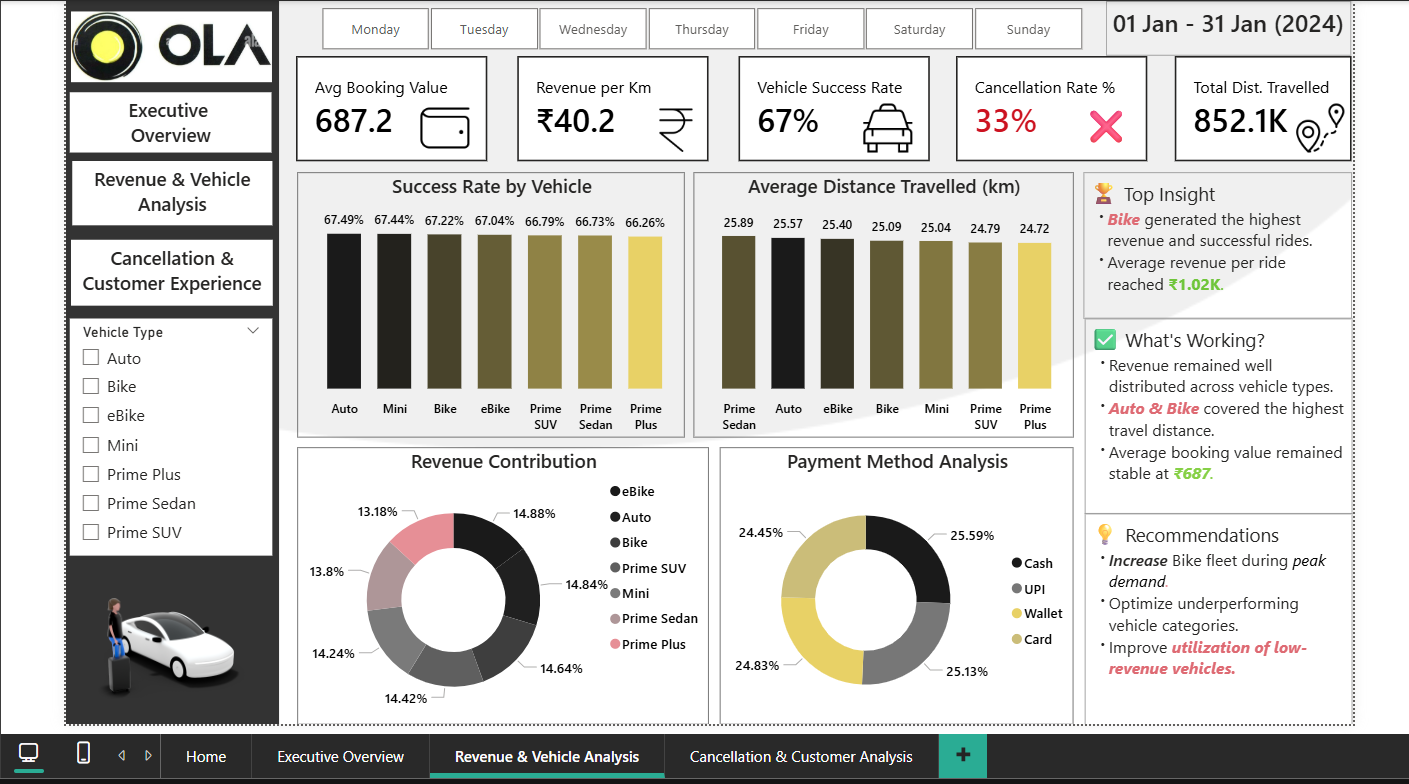

Layout of this report page (visuals, bound fields, positions):
{"tool":"powerbi","page":{"name":"Revenue & Vehicle Analysis","canvas":[1280,720],"ordinal":2},"visuals":[{"type":"textbox","box":[1035,0,243.8,54.7],"z":0},{"type":"shape","box":[0,0,212.3,720.4],"z":1000},{"type":"cardVisual","fields":{"Data":["Bangaluru_ola.Avg Booking Value"]},"box":[228.9,54.7,190.3,104.5],"z":2000},{"type":"cardVisual","fields":{"Data":["Bangaluru_ola.Total Distance Travelled"]},"box":[1104,54.7,176,104.5],"z":3000},{"type":"cardVisual","fields":{"Data":["Bangaluru_ola.Cancellation Rate %"]},"box":[886,54.7,190,104.5],"z":4000},{"type":"cardVisual","fields":{"Data":["Bangaluru_ola.Revenue(km)"]},"box":[448.8,54.7,190,104.5],"z":5000},{"type":"textbox","box":[3.4,90.3,201,59.8],"z":6000},{"type":"image","box":[5,0,200,90.8],"z":7000},{"type":"actionButton","box":[4.5,237.1,201,65.5],"z":8000},{"type":"textbox","box":[6.2,159.2,199,64],"z":9000},{"type":"actionButton","box":[2.3,90.3,202.1,59.8],"z":10000},{"type":"textbox","box":[4.5,237.1,201,65.5],"z":11000},{"type":"actionButton","box":[4.5,160.3,202.1,63.2],"z":12000},{"type":"slicer","fields":{"Values":["Bangaluru_ola.day_name"]},"box":[228.9,0,806.1,54.7],"z":13000},{"type":"slicer","fields":{"Values":["Bangaluru_ola.vehicle_type"]},"box":[3.7,316,201.5,236.4],"z":14000},{"type":"cardVisual","fields":{"Data":["Bangaluru_ola.Vehicle Success Rate %"]},"box":[669.3,54.7,190.3,104.5],"z":15000},{"type":"image","box":[788.7,102,58.5,48.5],"z":16000},{"type":"image","box":[347.1,102,59.7,48.5],"z":17000},{"type":"image","box":[1217.8,102,61,48.5],"z":18000},{"type":"clusteredColumnChart","title":"Average Distance Travelled (km)","fields":{"Category":["Bangaluru_ola.vehicle_type"],"Y":["Bangaluru_ola.Avg Ride Distance"]},"box":[624.5,170.4,378.2,263.7],"z":19000},{"type":"image","box":[0,552.3,212.7,167.9],"z":20000},{"type":"clusteredColumnChart","title":"Success Rate by Vehicle","fields":{"Category":["Bangaluru_ola.vehicle_type"],"Y":["Bangaluru_ola.Vehicle Success Rate %"]},"box":[230.1,170.4,385.6,263.7],"z":21000},{"type":"textbox","box":[1002.6,97,64.7,59.7],"z":22000},{"type":"image","box":[583.4,107,47.3,43.5],"z":23000},{"type":"donutChart","title":"Revenue Contribution","fields":{"Category":["Bangaluru_ola.vehicle_type"],"Y":["Bangaluru_ola.Revenue"]},"box":[230.1,444.1,409.3,276.2],"z":24000},{"type":"donutChart","title":"Payment Method  Analysis","fields":{"Category":["Bangaluru_ola.payment_method"],"Y":["Bangaluru_ola.Revenue"]},"box":[650.6,444.1,352,276.2],"z":25000},{"type":"textbox","box":[1012.6,170.4,267.5,145.5],"z":26000},{"type":"textbox","box":[1013.8,316,266.2,194.1],"z":27000},{"type":"textbox","box":[1013.8,510,266.2,210.2],"z":28000}]}

Visuals, with their boxes on the page's 1280x720 design canvas (x1, y1, x2, y2). These are canvas units, not pixel positions in the 1409x784 screenshot, which may show the page scaled, cropped or inside an application window:
textbox: left=1035, top=0, right=1279, bottom=55
shape: left=0, top=0, right=212, bottom=720
cardVisual - Bangaluru_ola.Avg Booking Value: left=229, top=55, right=419, bottom=159
cardVisual - Bangaluru_ola.Total Distance Travelled: left=1104, top=55, right=1280, bottom=159
cardVisual - Bangaluru_ola.Cancellation Rate %: left=886, top=55, right=1076, bottom=159
cardVisual - Bangaluru_ola.Revenue(km): left=449, top=55, right=639, bottom=159
textbox: left=3, top=90, right=204, bottom=150
image: left=5, top=0, right=205, bottom=91
actionButton: left=4, top=237, right=206, bottom=303
textbox: left=6, top=159, right=205, bottom=223
actionButton: left=2, top=90, right=204, bottom=150
textbox: left=4, top=237, right=206, bottom=303
actionButton: left=4, top=160, right=207, bottom=224
slicer - Bangaluru_ola.day_name: left=229, top=0, right=1035, bottom=55
slicer - Bangaluru_ola.vehicle_type: left=4, top=316, right=205, bottom=552
cardVisual - Bangaluru_ola.Vehicle Success Rate %: left=669, top=55, right=860, bottom=159
image: left=789, top=102, right=847, bottom=150
image: left=347, top=102, right=407, bottom=150
image: left=1218, top=102, right=1279, bottom=150
"Average Distance Travelled (km)" clusteredColumnChart: left=624, top=170, right=1003, bottom=434
image: left=0, top=552, right=213, bottom=720
"Success Rate by Vehicle" clusteredColumnChart: left=230, top=170, right=616, bottom=434
textbox: left=1003, top=97, right=1067, bottom=157
image: left=583, top=107, right=631, bottom=150
"Revenue Contribution" donutChart: left=230, top=444, right=639, bottom=720
"Payment Method  Analysis" donutChart: left=651, top=444, right=1003, bottom=720
textbox: left=1013, top=170, right=1280, bottom=316
textbox: left=1014, top=316, right=1280, bottom=510
textbox: left=1014, top=510, right=1280, bottom=720
